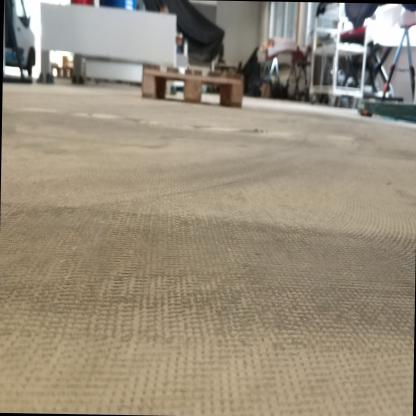BoxFace: (138, 57, 246, 112)
